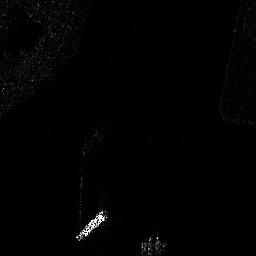ship: (73, 211, 109, 240)
